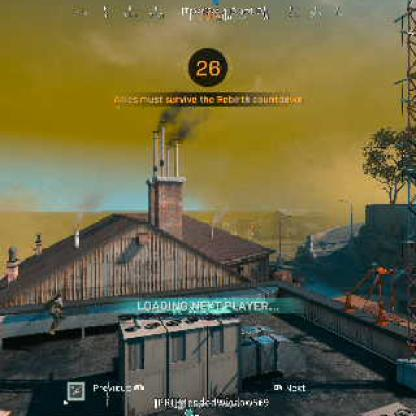enemy: (44, 294, 66, 333)
